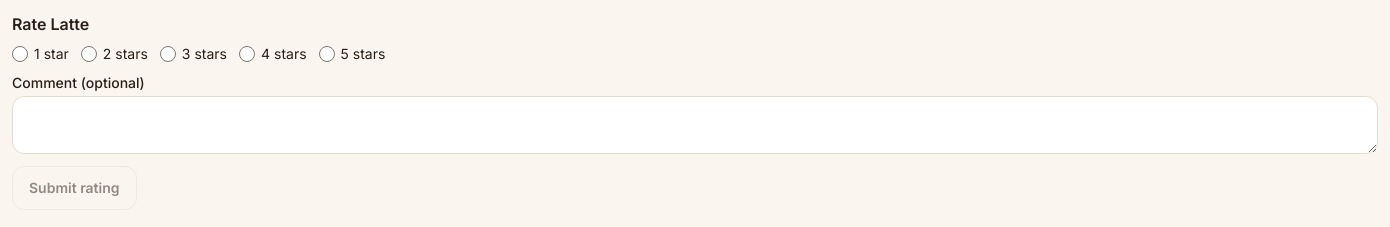
RatingForm › needs stars before it can be sent
The width and height of the screenshot is (1390, 227).
Expected: the button with aria-label "Submit rating for Latte" is disabled, left=12, top=166, right=137, bottom=210
Click the radio button labelled "1 star" at (20, 54), box left=12, top=46, right=28, bottom=62
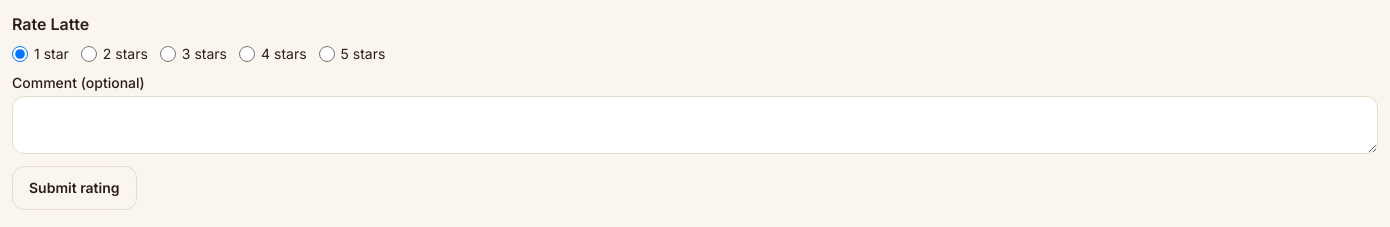
Expected: the button with aria-label "Submit rating for Latte" is enabled, left=12, top=166, right=137, bottom=210
